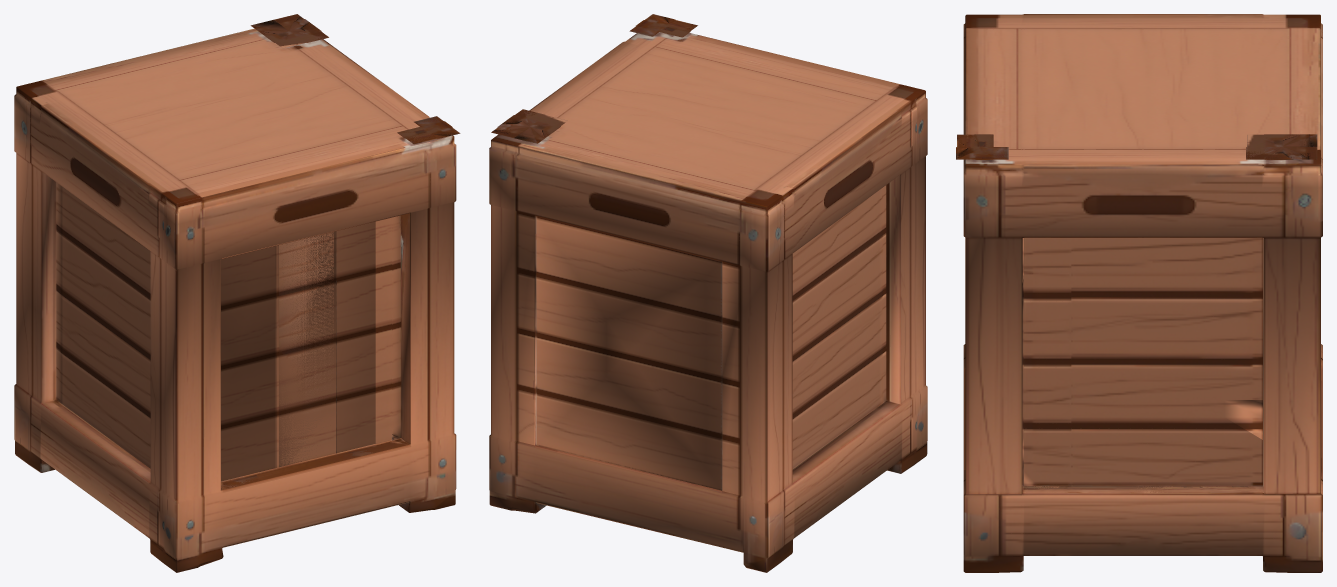
Rendered from Meshy_AI_Stylized_low_poly_woo_0426214323_texture.fbx.
The picture shows the model from 3 angles, left to right: view 1: azimuth 30°, elevation 25°; view 2: azimuth 150°, elevation 25°; view 3: azimuth 270°, elevation 25°; orthographic projection. The views are drawn at different scales.
Parts seen in each view (by area): view 1: Mesh_0; view 2: Mesh_0; view 3: Mesh_0.
Part boxes in pixels (x1,y1,x2,y2): Mesh_0: (14,14,460,572); Mesh_0: (489,14,927,572); Mesh_0: (956,14,1322,572).
Bounding box in the file's own units: 150 × 191 × 153.
1 material, 1 textured.
